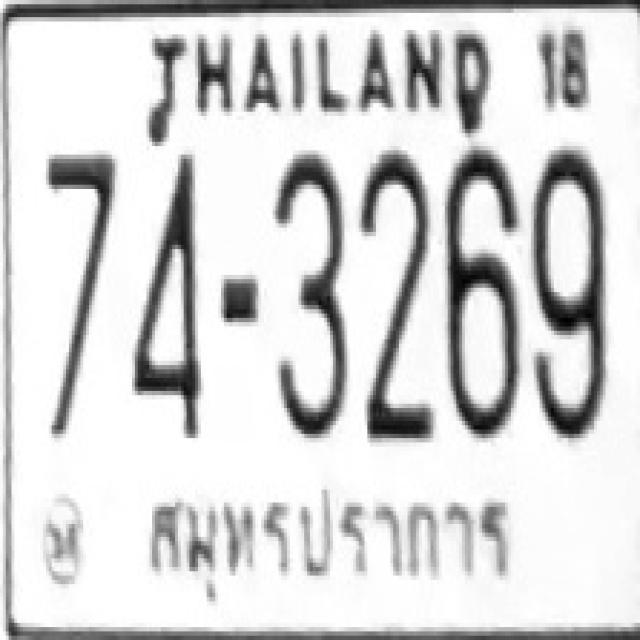0: (530, 146, 607, 438)
2: (359, 148, 430, 440)
3: (271, 150, 346, 438)
4: (129, 148, 201, 436)
6: (445, 146, 519, 438)
7: (43, 150, 115, 438), (43, 150, 115, 357)
9: (530, 146, 607, 438)
SamutPrakan: (137, 476, 527, 594)
